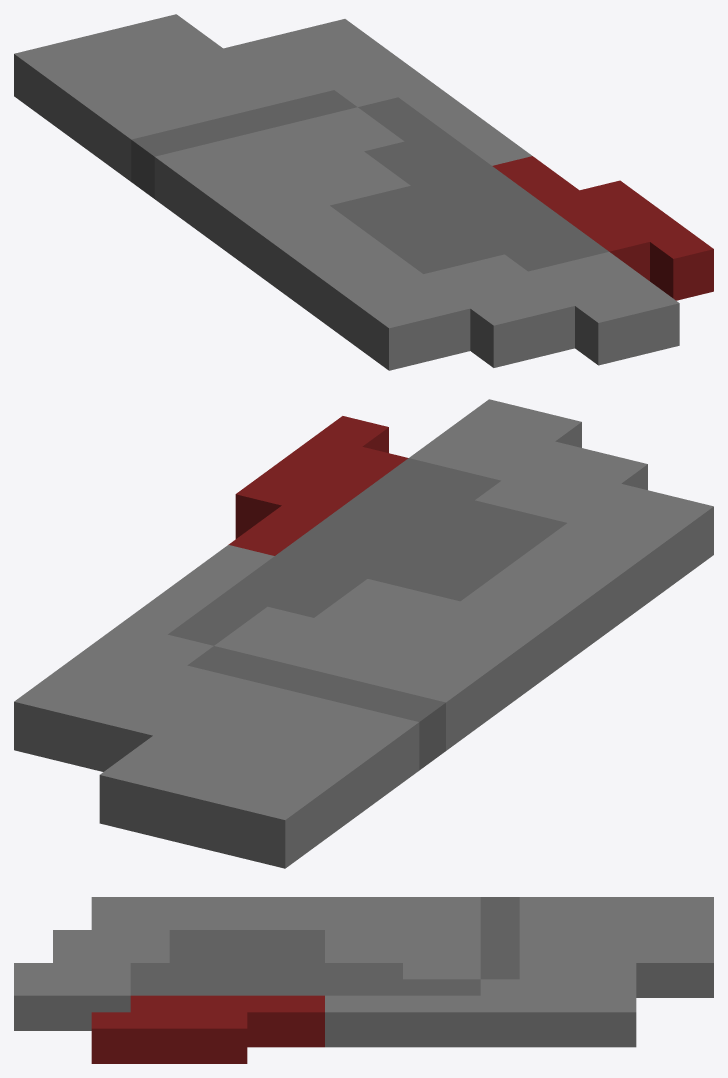
File: Extra-3-Transtellar_Wing1_R.obj
3 renders of one model, top to bottom at view 1: azimuth 30°, elevation 25°; view 2: azimuth 150°, elevation 25°; view 3: azimuth 270°, elevation 25°, orthographic. The views are drawn at different scales.
Parts seen in each view (by area): view 1: Transtellar_Wing1_R; view 2: Transtellar_Wing1_R; view 3: Transtellar_Wing1_R.
Part boxes in pixels (left/top/right/bottom): Transtellar_Wing1_R: left=14, top=14, right=713, bottom=370; Transtellar_Wing1_R: left=14, top=399, right=713, bottom=868; Transtellar_Wing1_R: left=14, top=897, right=713, bottom=1063.
Size of the model in its own units: 0.8 by 0.1 by 1.8.
Materials: 1 (1 with a texture image).
